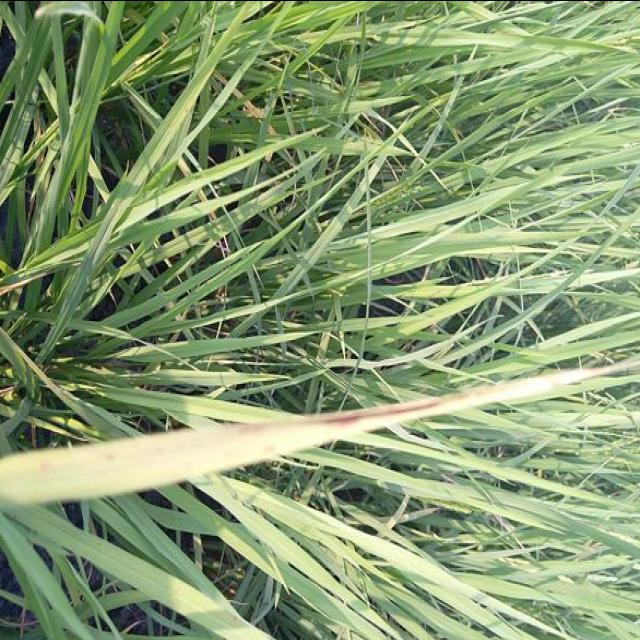Leaf Blight: (0, 368, 593, 507)
